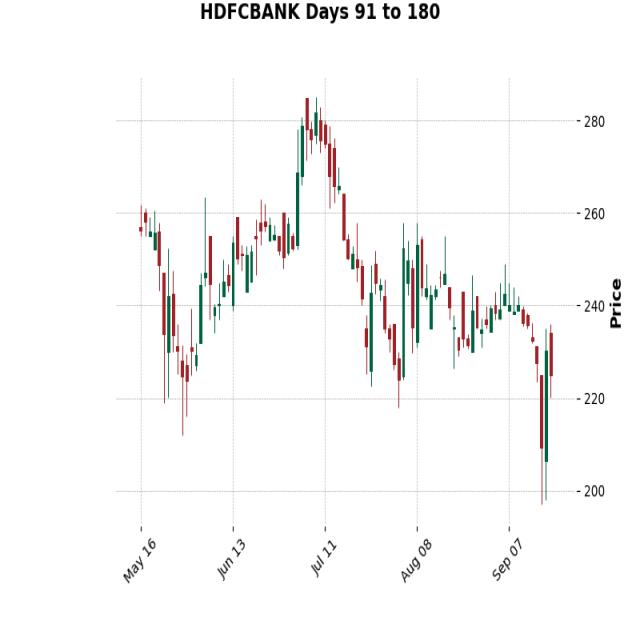Symmetric Triangle: (387, 219, 517, 421)
